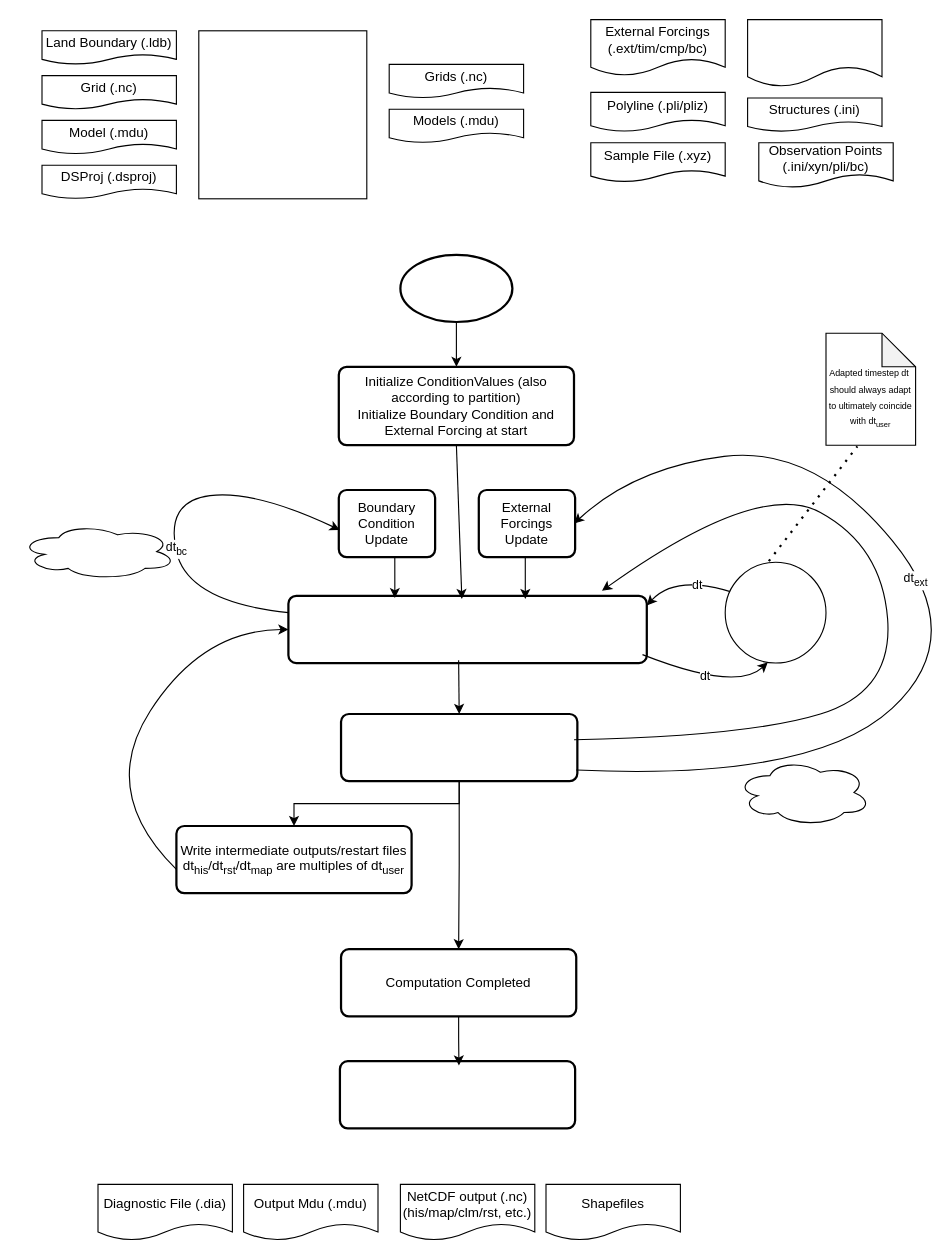
This 951x1260 diagram has some shape labels left out. The centre of each missing label's shape, as x and y in pixels:
Adapt Computational Timestep (dt): (x=775, y=612)
Computation Time step Cycles (Incl. structures?) dt/dt max ( dt<=dt max ): (x=467, y=629)
dt bc = dt: (x=97, y=551)
dt ext = dt user: (x=803, y=792)
Partition Model: (x=282, y=114)
Start Computation: (x=456, y=288)
Time varying Boundary Condition (.bc): (x=814, y=52)
User Time step Cycles dt user dt user is multiple of dt max: (x=458, y=747)
Write final outputs: (x=457, y=1094)
